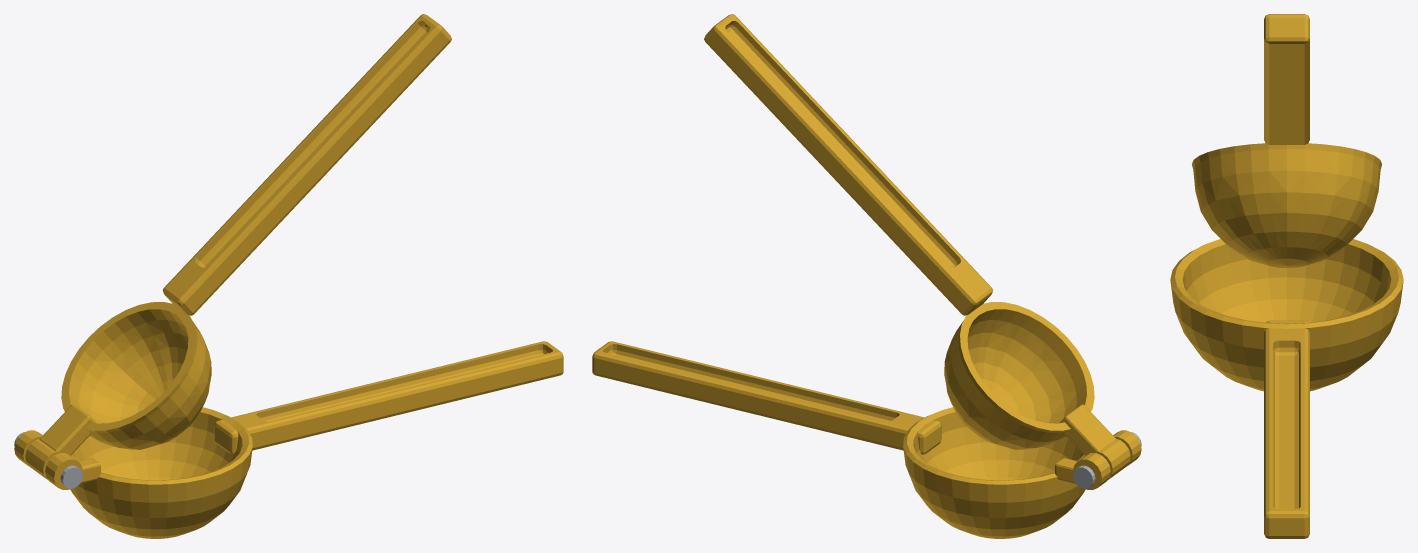
The picture shows the model from 3 angles, left to right: view 1: azimuth 30°, elevation 25°; view 2: azimuth 150°, elevation 25°; view 3: azimuth 270°, elevation 25°; orthographic projection. The views are drawn at different scales.
Parts seen in each view (by area): view 1: Upper nesting pressing cup, Upper long handle, Lower perforated receiver, Lower long handle, Upper middle hinge seat, Upper middle hinge, Lower left hinge; view 2: Upper nesting pressing cup, Upper long handle, Lower perforated receiver, Lower long handle, Upper middle hinge seat, Upper middle hinge, Lower right hinge; view 3: Lower perforated receiver, Upper nesting pressing cup, Lower long handle, Upper long handle.
Boxes of the visible parts, x1,y1,x2,y2 form: Upper nesting pressing cup: [61, 302, 211, 449]; Upper long handle: [162, 14, 451, 315]; Lower perforated receiver: [70, 407, 252, 538]; Lower long handle: [214, 341, 563, 454]; Upper middle hinge seat: [39, 404, 96, 455]; Upper middle hinge: [25, 439, 67, 479]; Lower left hinge: [45, 453, 82, 489]; Upper nesting pressing cup: [944, 302, 1094, 449]; Upper long handle: [704, 14, 993, 315]; Lower perforated receiver: [903, 407, 1085, 538]; Lower long handle: [592, 341, 941, 454]; Upper middle hinge seat: [1059, 404, 1116, 455]; Upper middle hinge: [1094, 439, 1130, 479]; Lower right hinge: [1073, 453, 1110, 489]; Lower perforated receiver: [1170, 239, 1403, 391]; Upper nesting pressing cup: [1192, 143, 1381, 267]; Lower long handle: [1264, 320, 1309, 538]; Upper long handle: [1264, 14, 1309, 144].
Size of the model in its own units: 0.2345 by 0.1898 by 0.076.
